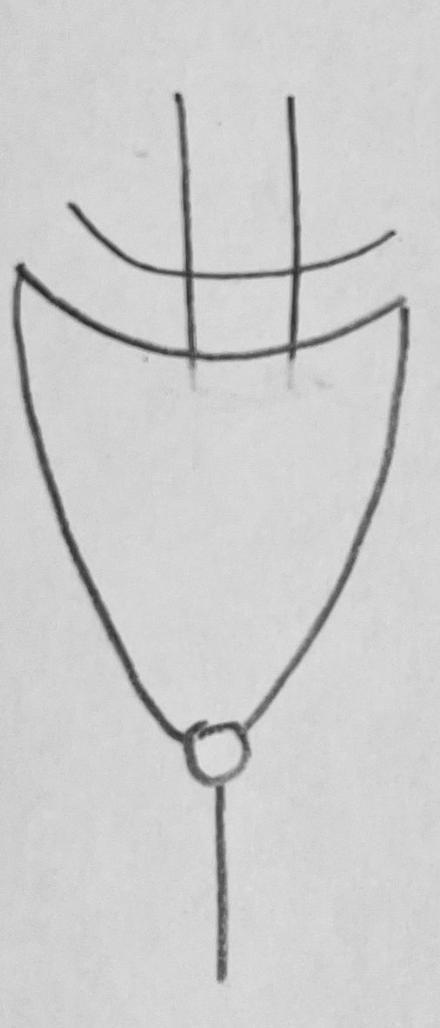XNOR: (2, 168, 426, 790)
